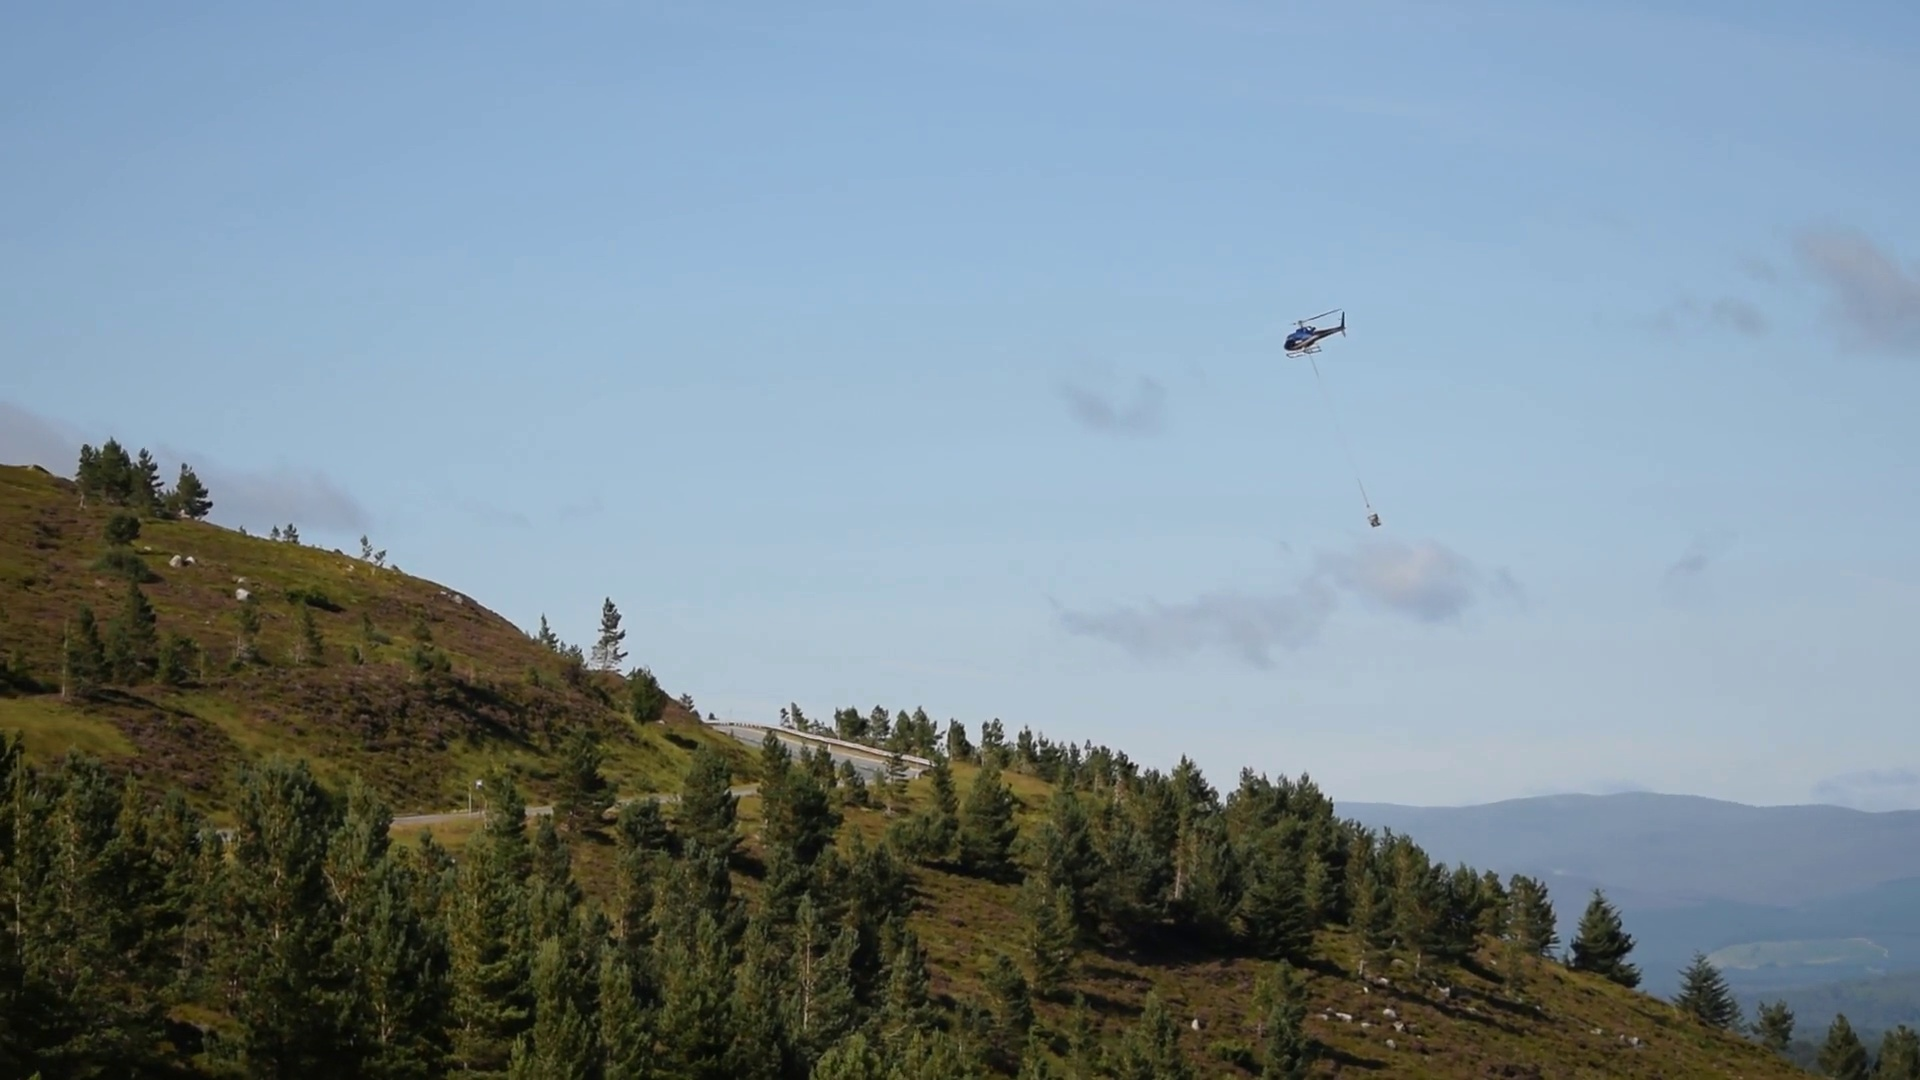heli: (1274, 307, 1348, 356)
